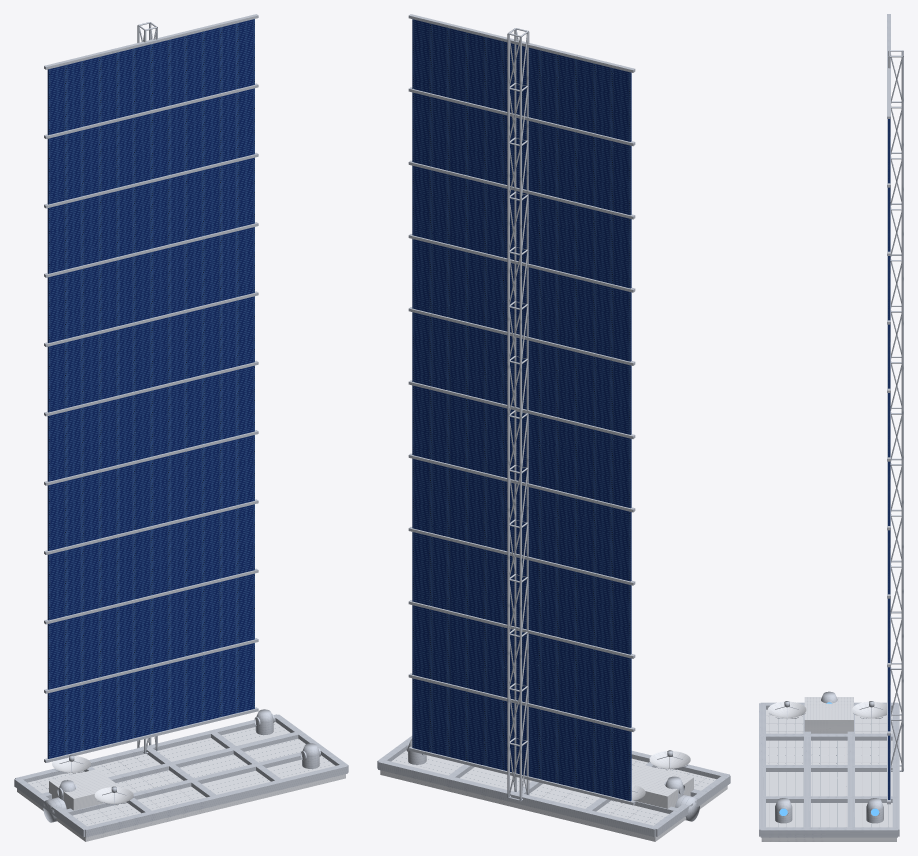
Rendered from sc_starlink.glb.
3 views of the same model, side by side, from view 1: azimuth 30°, elevation 25°; view 2: azimuth 150°, elevation 25°; view 3: azimuth 270°, elevation 25° (orthographic). The views are drawn at different scales.
Parts seen in each view (by area): view 1: starlink_solar_blanket, starlink_ribs_mast_turrets, starlink_milled_chassis; view 2: starlink_solar_blanket, starlink_ribs_mast_turrets, starlink_milled_chassis; view 3: starlink_ribs_mast_turrets, starlink_milled_chassis, starlink_solar_blanket.
Part boxes in pixels (x1,y1,x2,y2): starlink_solar_blanket: (47, 19, 254, 758); starlink_ribs_mast_turrets: (14, 14, 348, 837); starlink_milled_chassis: (17, 722, 345, 841); starlink_solar_blanket: (412, 19, 631, 801); starlink_ribs_mast_turrets: (377, 14, 730, 837); starlink_milled_chassis: (380, 750, 727, 841); starlink_ribs_mast_turrets: (759, 14, 903, 837); starlink_milled_chassis: (761, 697, 896, 841); starlink_solar_blanket: (888, 119, 890, 799).
Bounding box in the file's own units: 0.7021 × 1.87 × 0.3365.
Materials: 5 (4 with a texture image).
